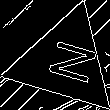N_W: (34, 36, 95, 88)
